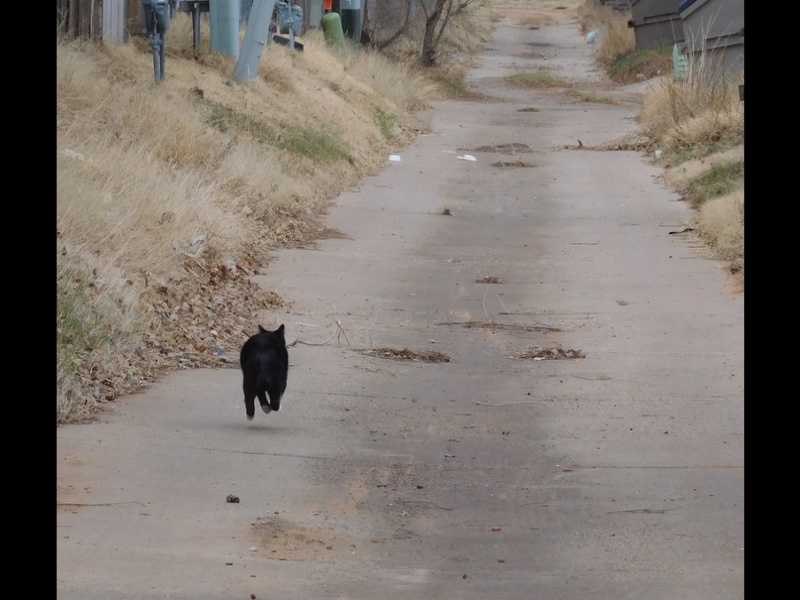cat: (236, 322, 293, 421)
